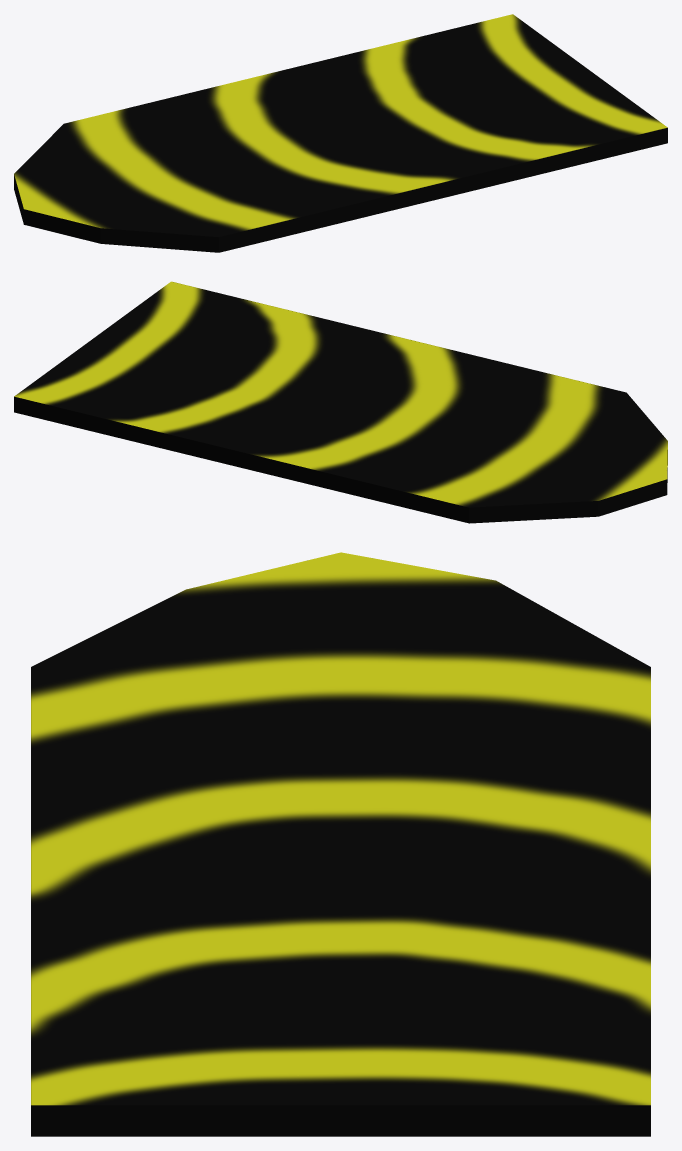
The model's file is speedboost.dae.
3 views of the same model, one above another, from view 1: azimuth 30°, elevation 25°; view 2: azimuth 150°, elevation 25°; view 3: azimuth 270°, elevation 25° (orthographic). The views are drawn at different scales.
Visible parts, largest first — view 1: Cube; view 2: Cube; view 3: Cube.
Part boxes in pixels (x1,y1,x2,y2): Cube: [14, 14, 667, 252]; Cube: [14, 281, 667, 523]; Cube: [31, 552, 650, 1136].
Bounding box in the file's own units: 4.22 × 2 × 0.1111.
2 materials, 1 textured.
